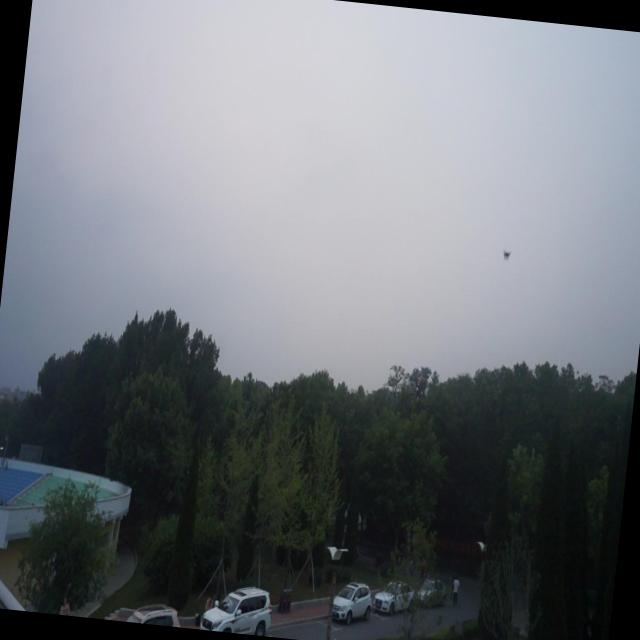drone: (499, 242, 515, 266)
